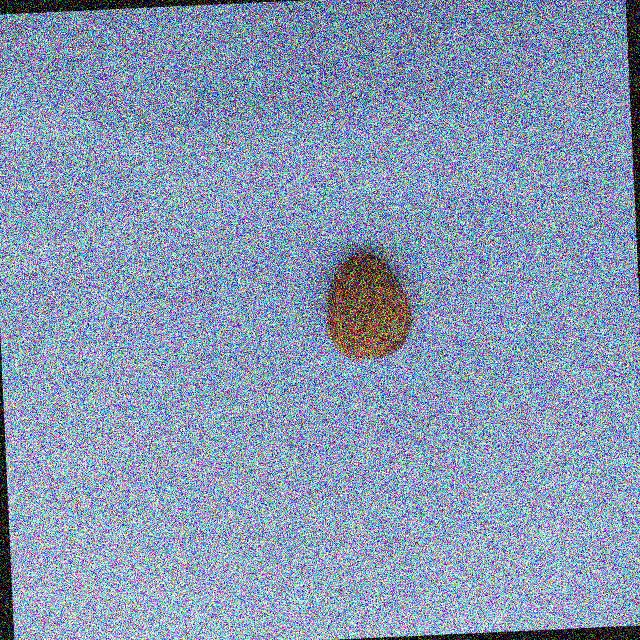grade1: (313, 242, 420, 368)
